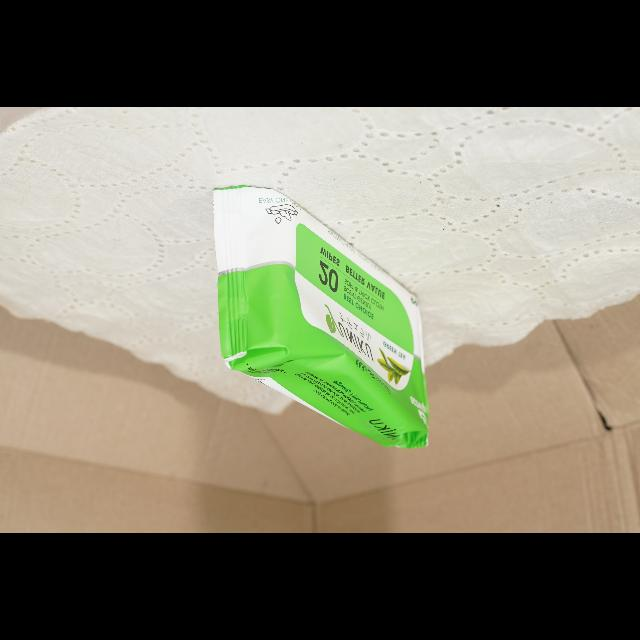khan_giay: (214, 187, 429, 448)
